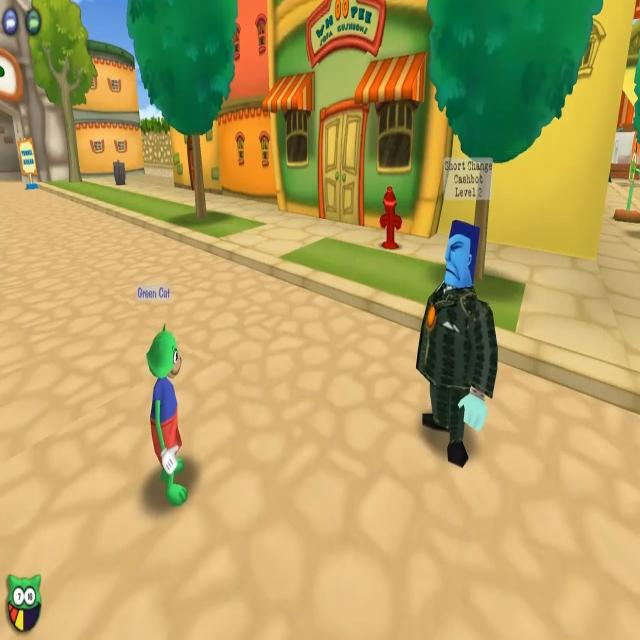shortchange: (413, 160, 499, 476)
